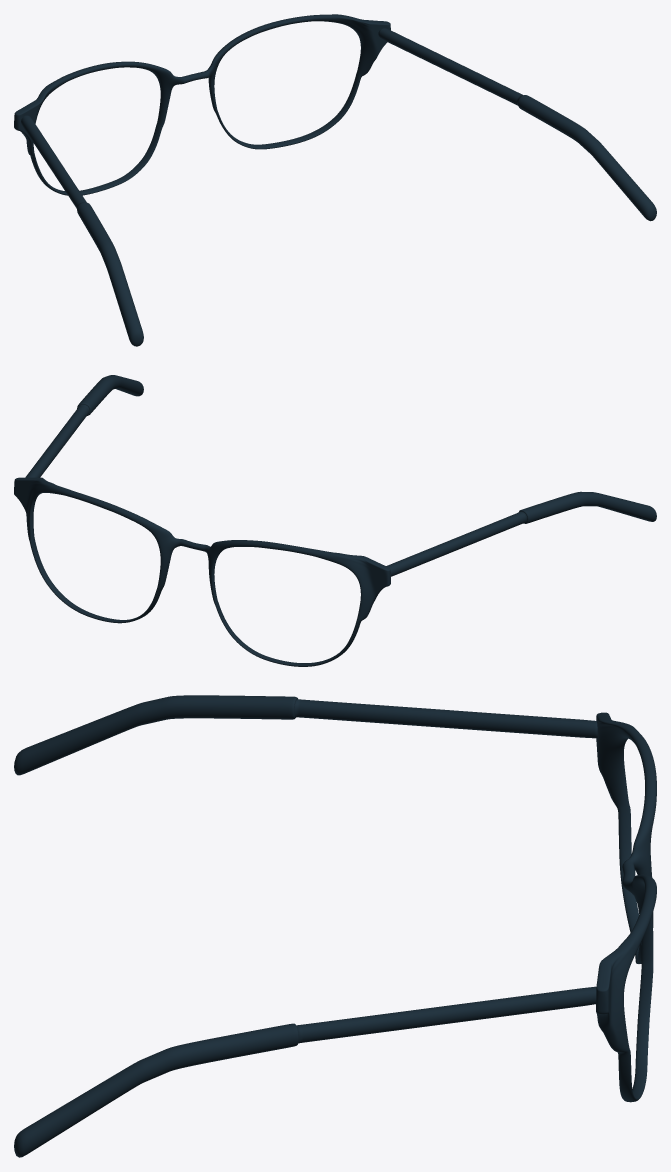
File: billie.fbx
3 renders of one model, top to bottom at view 1: azimuth 30°, elevation 25°; view 2: azimuth 150°, elevation 25°; view 3: azimuth 270°, elevation 25°, orthographic. The views are drawn at different scales.
Parts seen in each view (by area): view 1: frame.001; view 2: frame.001; view 3: frame.001.
Part boxes in pixels (left/top/right/bottom): frame.001: left=14, top=14, right=656, bottom=346; frame.001: left=14, top=375, right=656, bottom=666; frame.001: left=14, top=695, right=656, bottom=1157.
Size of the model in its own units: 18.76 by 4.17 by 13.03.
